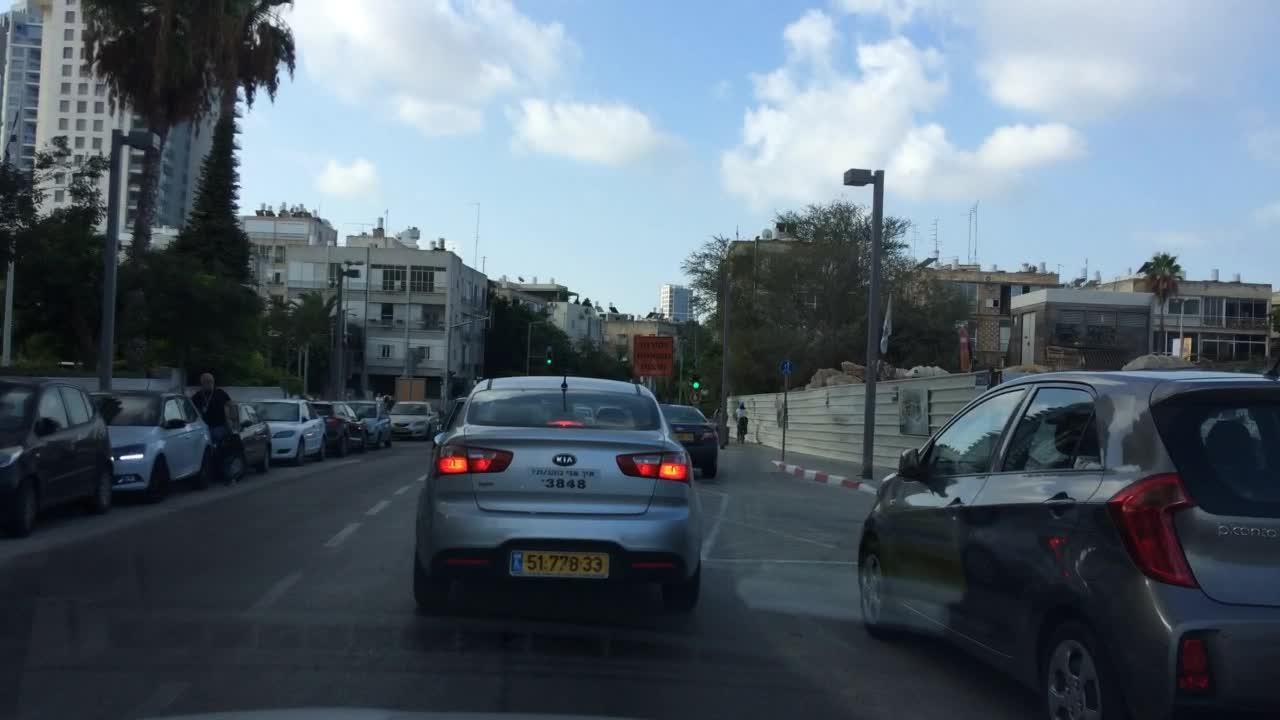kia: (547, 448, 585, 470)
